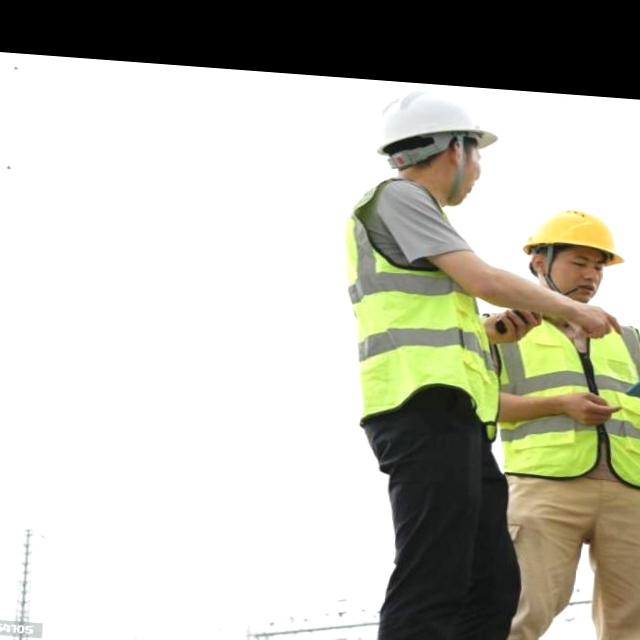Con_Casco: (371, 87, 504, 206), (523, 203, 630, 303)
Con_Chaleco: (333, 182, 508, 427), (481, 305, 640, 492)
